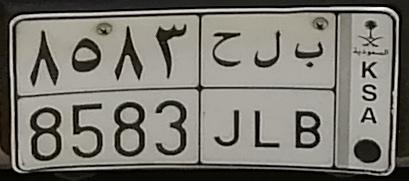3: (154, 23, 189, 156)
5: (69, 36, 105, 160)
8: (28, 28, 63, 162), (113, 25, 147, 157)
B: (294, 40, 324, 150)
J: (210, 30, 241, 147)
L: (252, 29, 283, 149)
